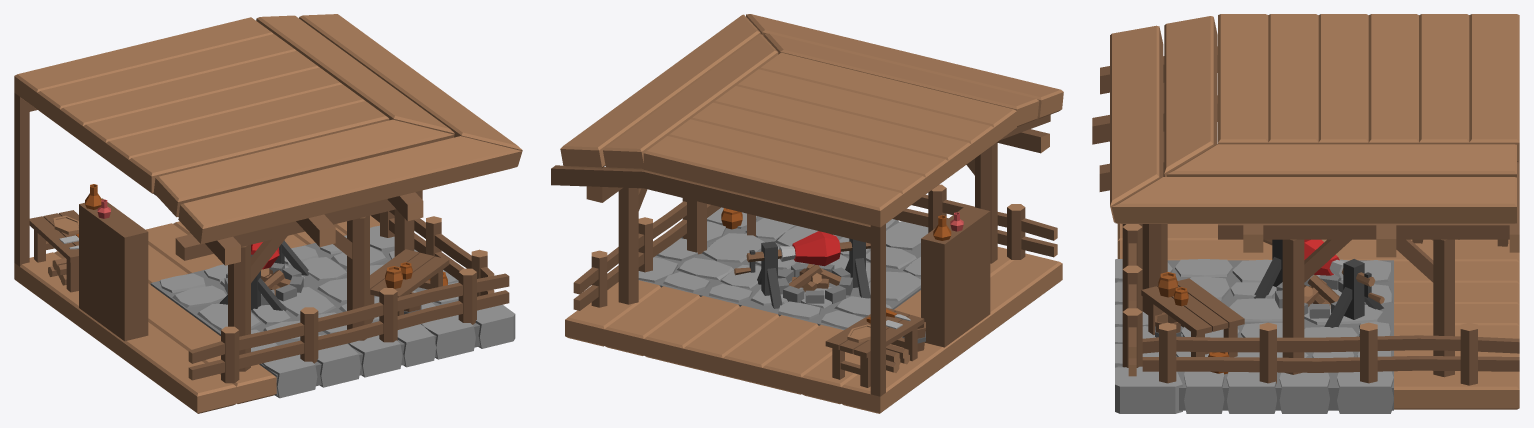
Rendered from Kitchen_Lvl_02_Corner_LeftRight.fbx.
3 views of the same model, side by side, from view 1: azimuth 30°, elevation 25°; view 2: azimuth 150°, elevation 25°; view 3: azimuth 270°, elevation 25° (orthographic). The views are drawn at different scales.
Visible parts, largest first — view 1: Kitchen_Lvl_02_Corner_LeftRight; view 2: Kitchen_Lvl_02_Corner_LeftRight; view 3: Kitchen_Lvl_02_Corner_LeftRight.
Boxes of the visible parts, x1,y1,x2,y2 form: Kitchen_Lvl_02_Corner_LeftRight: (14, 14, 522, 413); Kitchen_Lvl_02_Corner_LeftRight: (551, 14, 1063, 413); Kitchen_Lvl_02_Corner_LeftRight: (1092, 14, 1519, 413).
Bounding box in the file's own units: 8.51 × 5.05 × 8.5.
